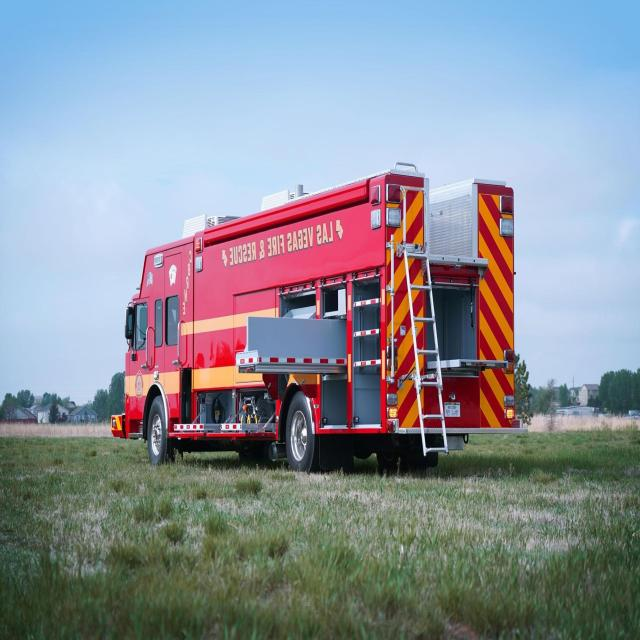Truck: (113, 159, 520, 466)
